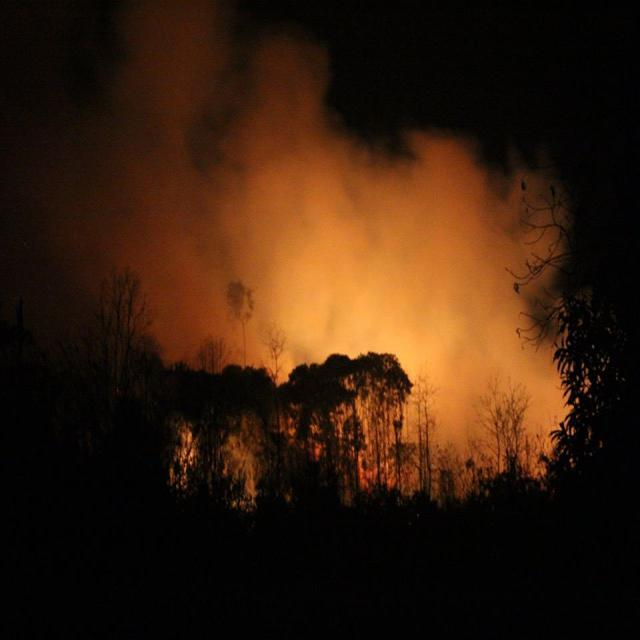Fire: (160, 410, 397, 493)
Smoke: (92, 47, 562, 433)
